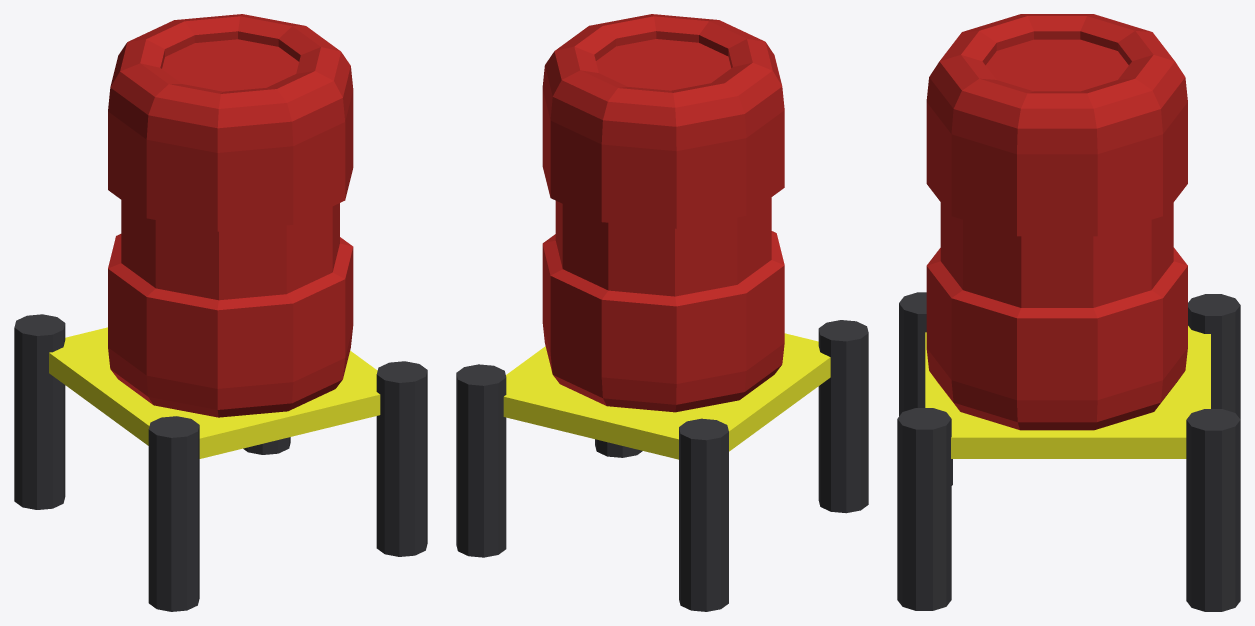
The model's file is Cistern.fbx.
The picture shows the model from 3 angles, left to right: view 1: azimuth 30°, elevation 25°; view 2: azimuth 150°, elevation 25°; view 3: azimuth 270°, elevation 25°; orthographic projection. The views are drawn at different scales.
Parts seen in each view (by area): view 1: Cistern; view 2: Cistern; view 3: Cistern.
Part boxes in pixels (x1,y1,x2,y2): Cistern: [14, 14, 427, 611]; Cistern: [456, 14, 868, 611]; Cistern: [897, 14, 1240, 611].
Bounding box in the file's own units: 1209 × 1999 × 1268.
